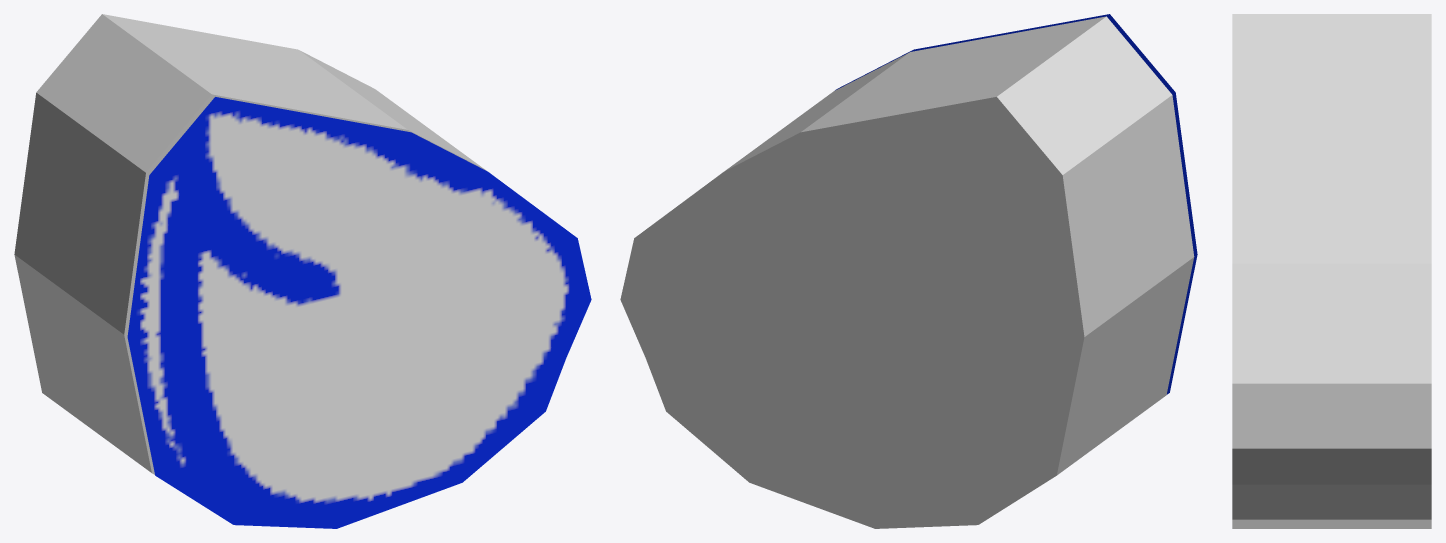
The picture shows the model from 3 angles, left to right: view 1: azimuth 30°, elevation 25°; view 2: azimuth 150°, elevation 25°; view 3: azimuth 270°, elevation 25°; orthographic projection. The views are drawn at different scales.
Parts seen in each view (by area): view 1: In_6_1, In_6_0; view 2: In_6_0, In_6_1; view 3: In_6_0.
Part boxes in pixels (box(x1,y1,x2,y2)): In_6_1: box(127, 97, 591, 528); In_6_0: box(14, 14, 486, 474); In_6_0: box(620, 16, 1194, 528); In_6_1: box(835, 14, 1197, 394); In_6_0: box(1232, 14, 1431, 528).
Size of the model in its own units: 1.22 by 1.16 by 0.515.
2 materials, 1 textured.
